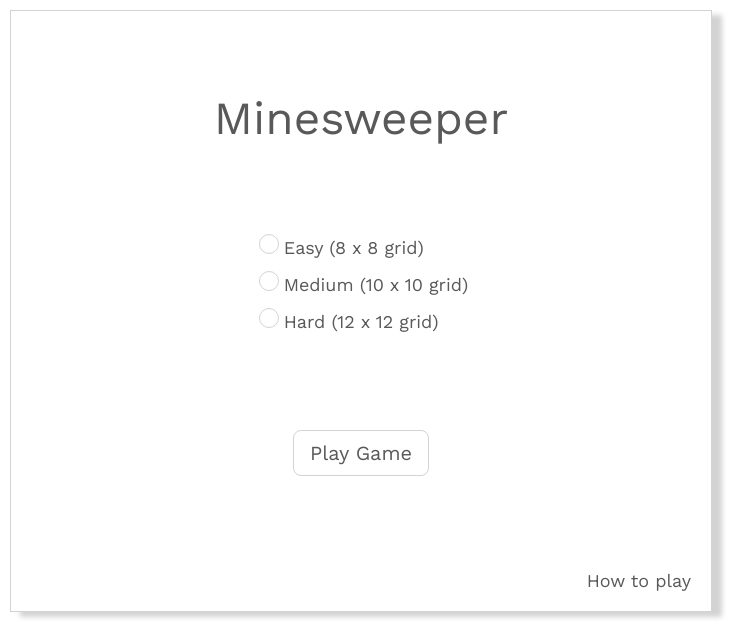
Scenario: Timer updates as expected › Timer correctly records 10 seconds
The width and height of the screenshot is (741, 636).
Click the button with test id "start-game".
click(361, 453)  # box [293, 430, 429, 476]
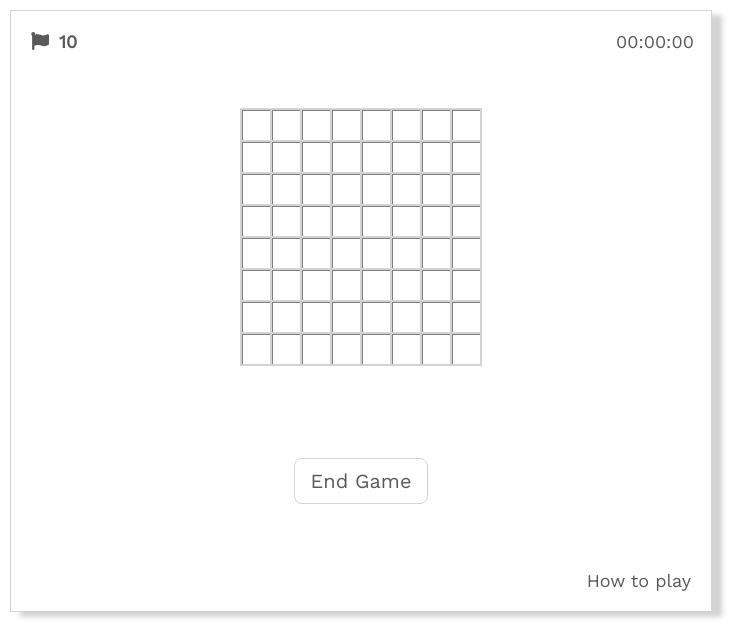
Expected: the text "00:00:00" is shown, [616, 31, 694, 52]
Wait "10000"
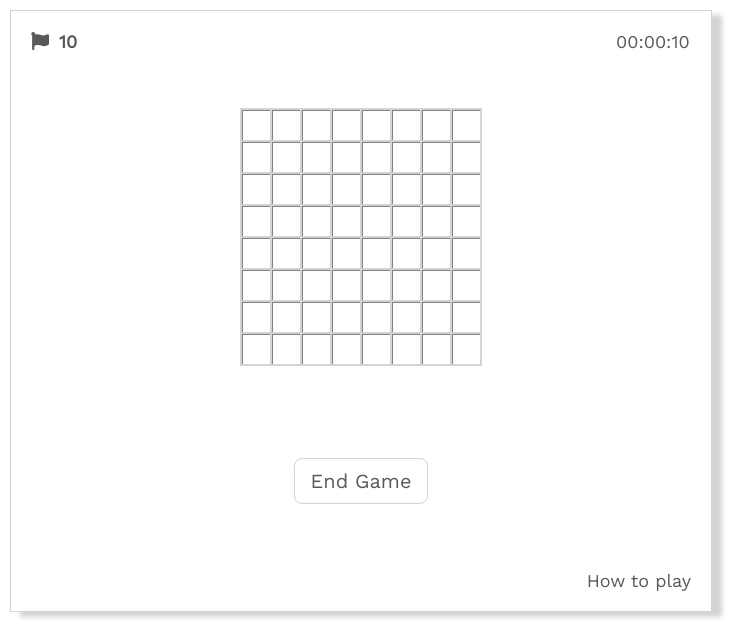
Expected: the text with test id "timer" reads "00:00:10", [616, 31, 690, 52]
